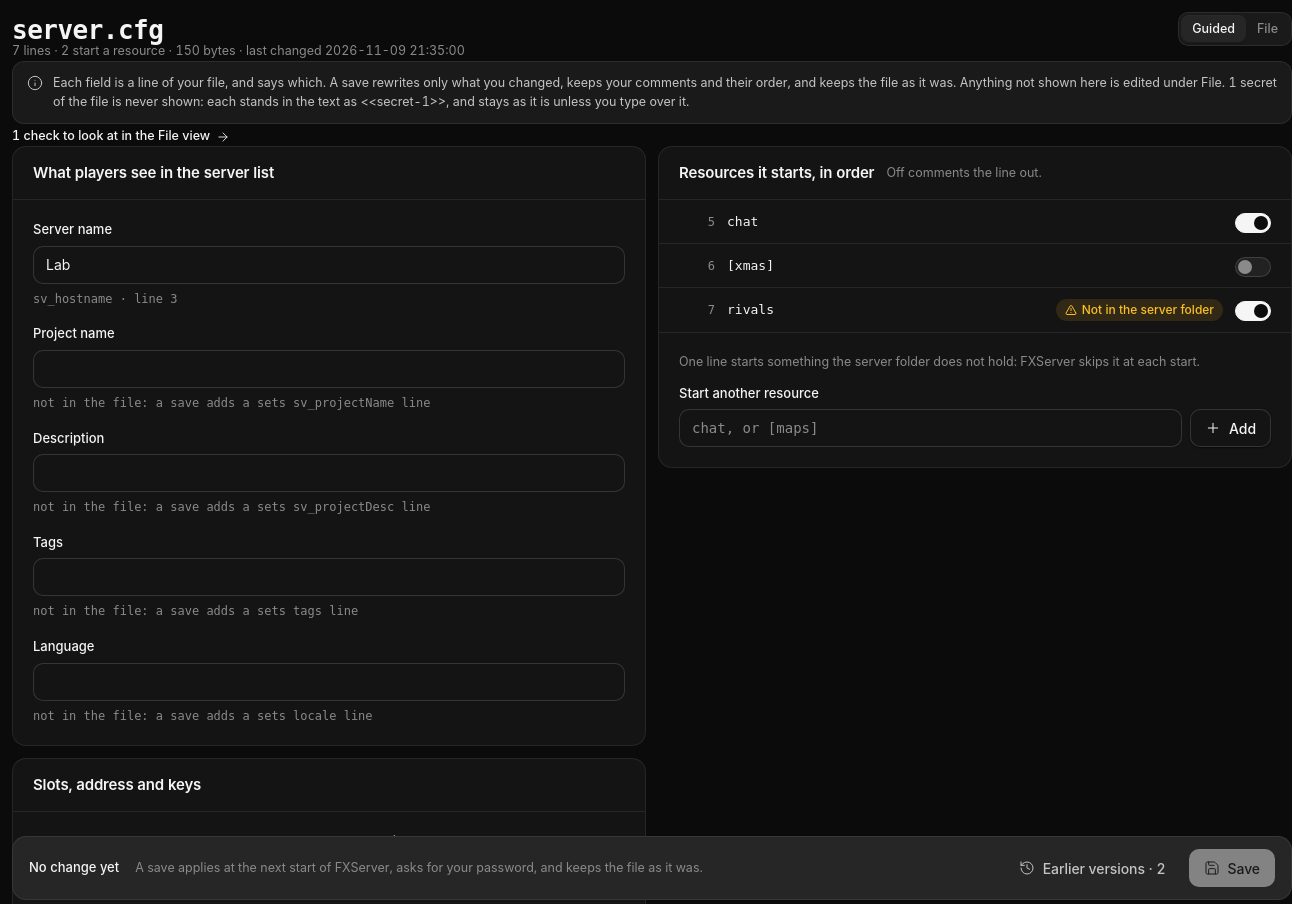
Test: CfgPage › should never write a value FXServer would cut, and say so by the field
Replace the text in the field labelled "Server name" with "a\"; quit": (329, 264) [33,246,625,284]
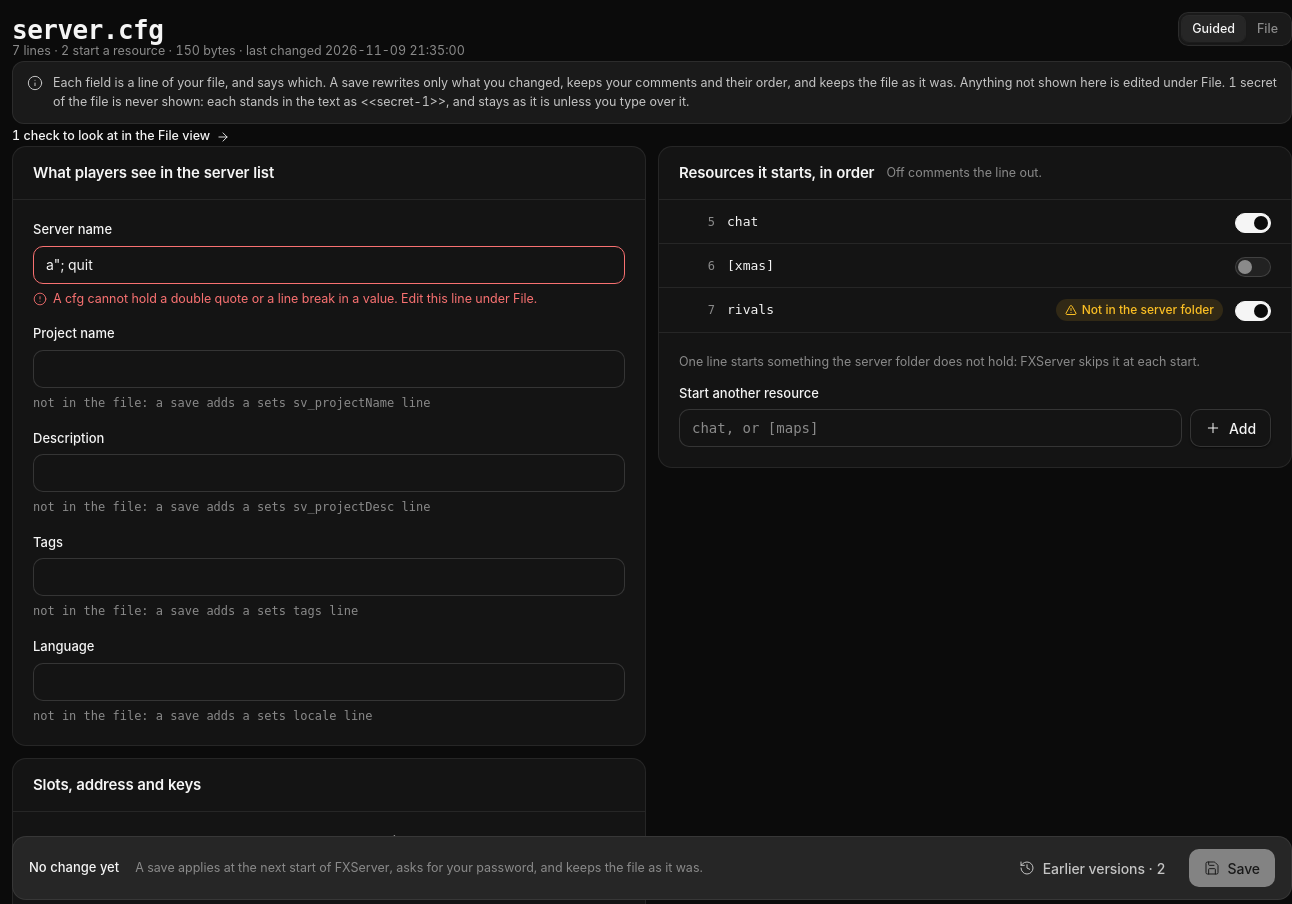
Expected: the button "Save" is disabled, [1188,849,1275,887]
Result: the message shows "A cfg cannot hold a double quote or a line break in a value. Edit this line under File." at [53,290,537,306]
